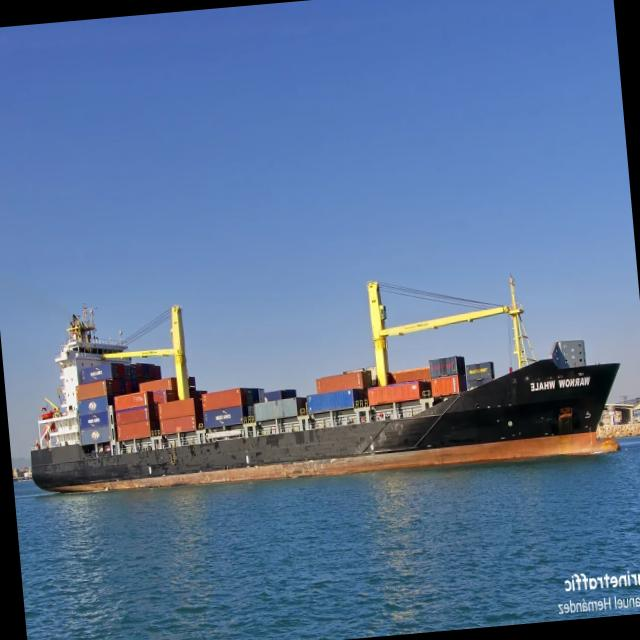Cargo: (32, 276, 618, 490)
